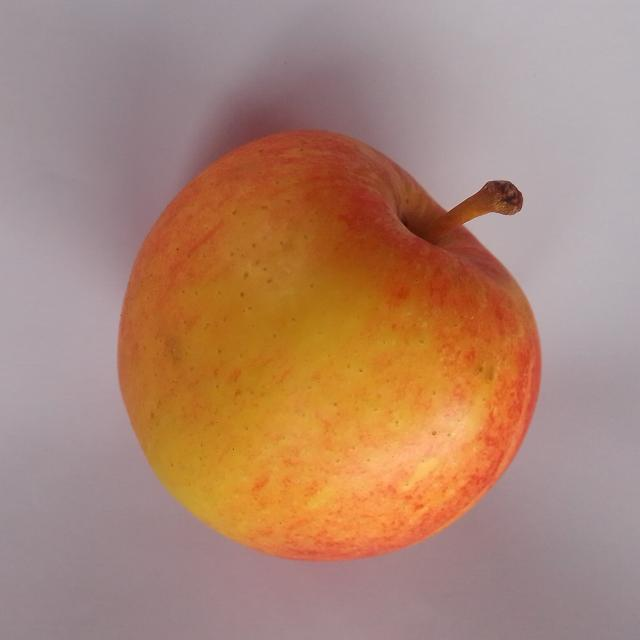Fresh Apple: (117, 130, 550, 548)
